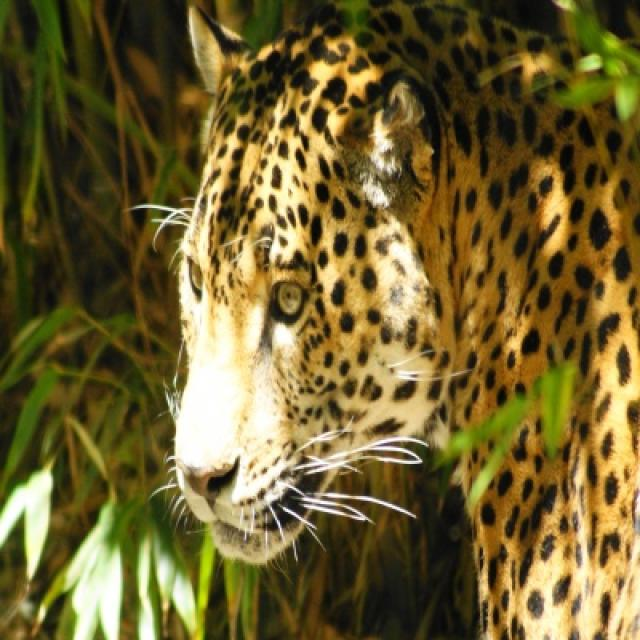Jaguar: (173, 0, 638, 638)
